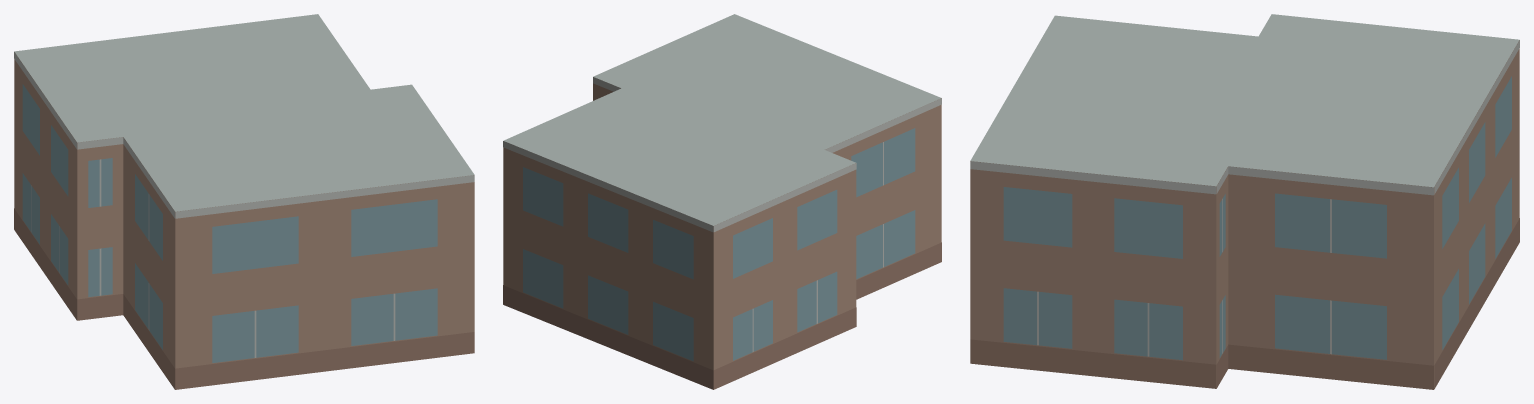
Rendered from survey-upis-32809461.glb.
The picture shows the model from 3 angles, left to right: view 1: azimuth 30°, elevation 25°; view 2: azimuth 150°, elevation 25°; view 3: azimuth 270°, elevation 25°; orthographic projection. The views are drawn at different scales.
Visible parts, largest first — view 1: survey-upis-32809461.tmp; view 2: survey-upis-32809461.tmp; view 3: survey-upis-32809461.tmp.
Boxes of the visible parts, x1,y1,x2,y2 form: survey-upis-32809461.tmp: (14, 14, 474, 389); survey-upis-32809461.tmp: (503, 14, 941, 389); survey-upis-32809461.tmp: (970, 14, 1519, 389).
Size of the model in its own units: 11.2 by 6.1 by 15.01.
